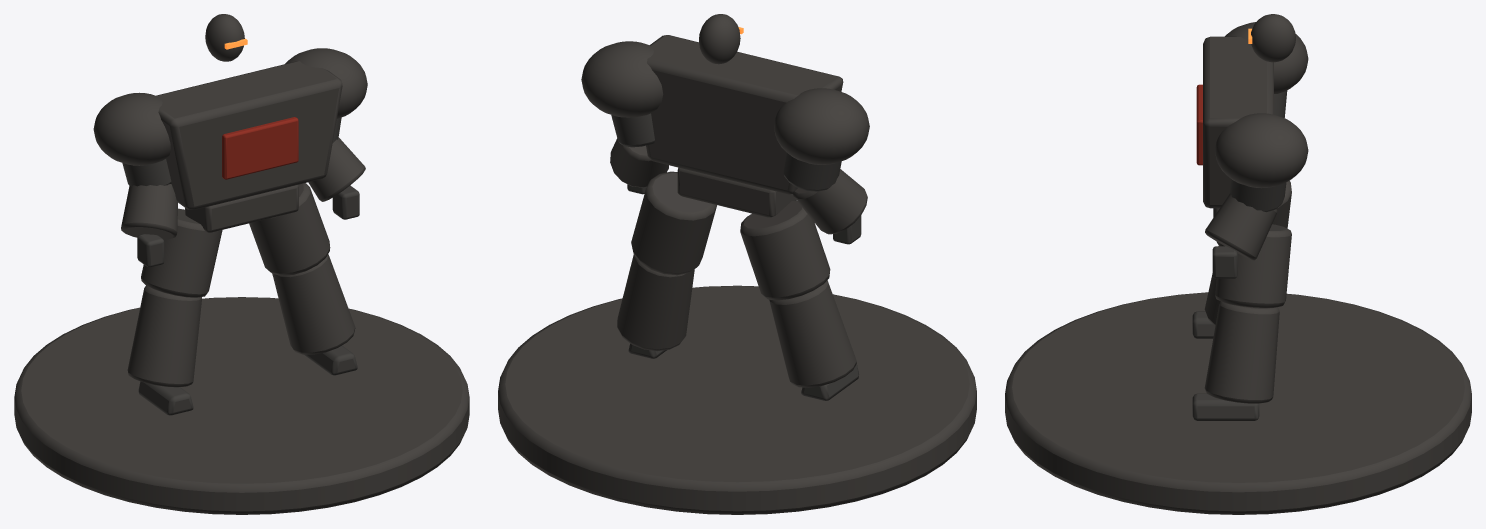
The model's file is foundries_frame_bulwark.glb.
3 renders of one model, left to right at view 1: azimuth 30°, elevation 25°; view 2: azimuth 150°, elevation 25°; view 3: azimuth 270°, elevation 25°, orthographic. The views are drawn at different scales.
Parts seen in each view (by area): view 1: standin_base, standin_torso, standin_shin_R, standin_shin_L, standin_pauldron_R, standin_thigh_L, standin_thigh_R, tp, standin_pelvis, standin_forearm_R, standin_pauldron_L, standin_forearm_L (+6 smaller); view 2: standin_base, standin_torso, standin_thigh_R, standin_shin_R, standin_thigh_L, standin_pauldron_R, standin_shin_L, standin_pauldron_L, standin_pelvis, standin_forearm_R, standin_forearm_L, standin_helm (+3 smaller); view 3: standin_base, standin_torso, standin_shin_L, standin_pauldron_L, standin_thigh_L, standin_forearm_L, standin_helm, standin_foot_L, standin_pauldron_R, standin_arm_L, standin_hand_L, tp (+1 smaller).
Part boxes in pixels (x1,y1,x2,y2): standin_base: (14,297,469,514); standin_torso: (156,61,342,209); standin_shin_R: (127,285,201,387); standin_shin_L: (272,254,355,354); standin_pauldron_R: (93,92,170,165); standin_thigh_L: (249,183,330,275); standin_thigh_R: (141,208,222,297); tp: (222,117,298,179); standin_pelvis: (185,185,298,232); standin_forearm_R: (121,184,177,239); standin_pauldron_L: (285,48,367,118); standin_forearm_L: (308,137,365,201); standin_base: (498,285,976,514); standin_torso: (646,35,843,194); standin_thigh_R: (740,200,830,300); standin_shin_R: (769,280,856,387); standin_thigh_L: (631,171,716,275); standin_pauldron_R: (774,88,869,164); standin_shin_L: (617,255,694,351); standin_pauldron_L: (581,41,663,117); standin_pelvis: (677,167,796,217); standin_forearm_R: (793,169,867,234); standin_forearm_L: (610,138,668,187); standin_helm: (699,14,740,64); standin_base: (1005,292,1471,514); standin_torso: (1203,36,1273,208); standin_shin_L: (1204,301,1279,403); standin_pauldron_L: (1215,113,1308,188); standin_thigh_L: (1215,224,1291,307); standin_forearm_L: (1205,193,1277,260); standin_helm: (1251,14,1295,62); standin_foot_L: (1192,393,1259,420); standin_pauldron_R: (1225,22,1308,93); standin_arm_L: (1230,179,1286,212); standin_hand_L: (1212,246,1237,278); tp: (1196,84,1202,165).
Bounding box in the file's own units: 40 × 38.16 × 40.
